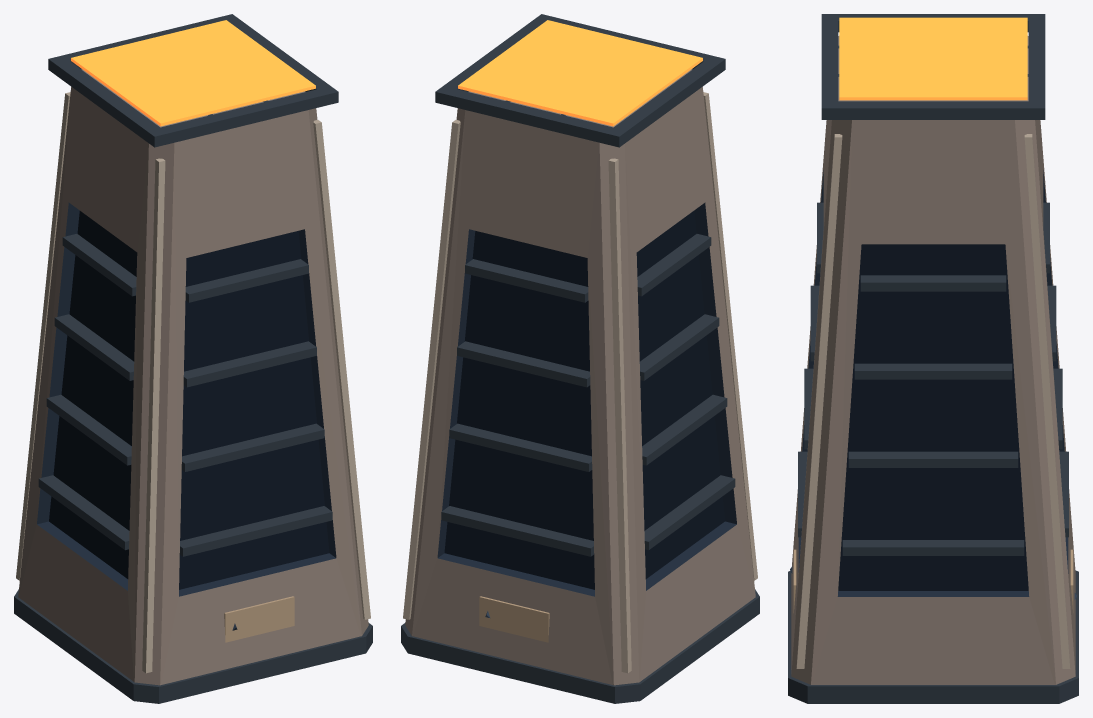
File: cooling-stack.glb
The picture shows the model from 3 angles, left to right: view 1: azimuth 30°, elevation 25°; view 2: azimuth 150°, elevation 25°; view 3: azimuth 270°, elevation 25°; orthographic projection. The views are drawn at different scales.
Parts seen in each view (by area): view 1: CS_CoolingStack; view 2: CS_CoolingStack; view 3: CS_CoolingStack.
Boxes of the visible parts, bbox=[...] form: CS_CoolingStack: bbox=[14, 14, 372, 703]; CS_CoolingStack: bbox=[401, 14, 759, 703]; CS_CoolingStack: bbox=[788, 14, 1078, 703].
Bounding box in the file's own units: 4.16 × 9.24 × 4.16.
